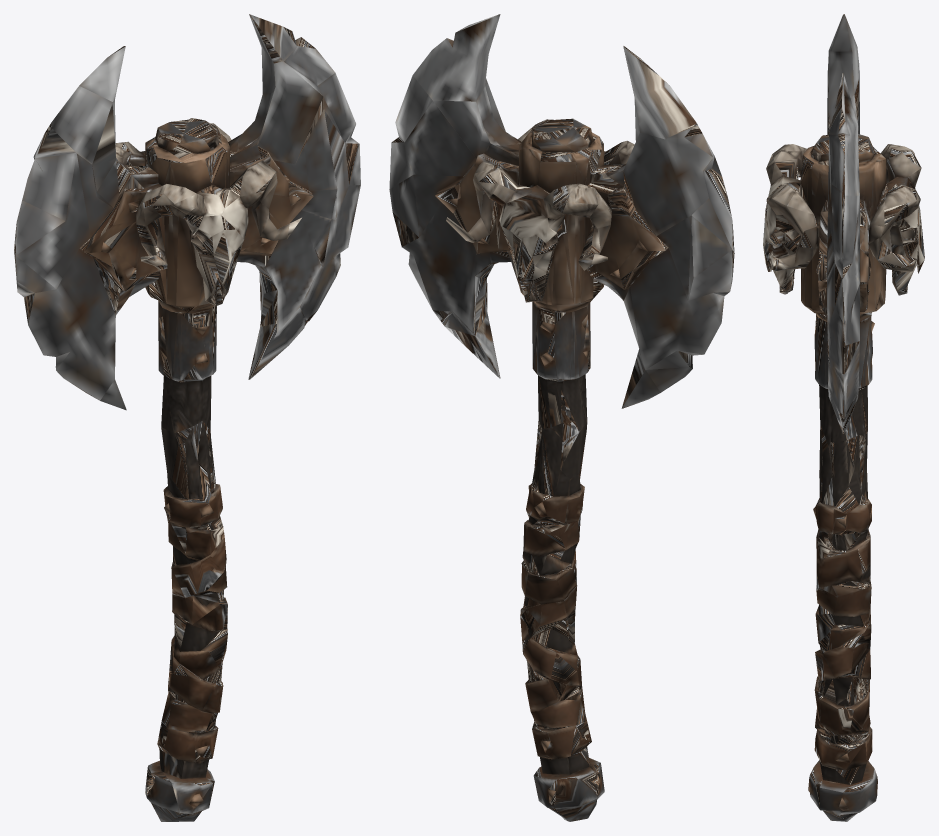
Rendered from cleaver.glb.
The picture shows the model from 3 angles, left to right: view 1: azimuth 30°, elevation 25°; view 2: azimuth 150°, elevation 25°; view 3: azimuth 270°, elevation 25°; orthographic projection.
Visible parts, largest first — view 1: Mesh_0; view 2: Mesh_0; view 3: Mesh_0.
Part boxes in pixels (left/top/right/bottom): Mesh_0: left=14, top=14, right=360, bottom=821; Mesh_0: left=389, top=14, right=734, bottom=821; Mesh_0: left=763, top=14, right=924, bottom=821.
Size of the model in its own units: 0.4799 by 1.05 by 0.1973.
1 material, 1 textured.
